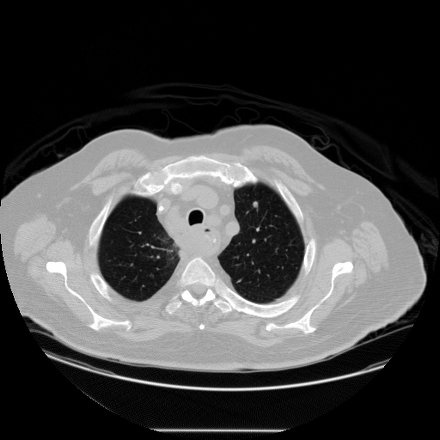nodule: (251, 200, 259, 208)
